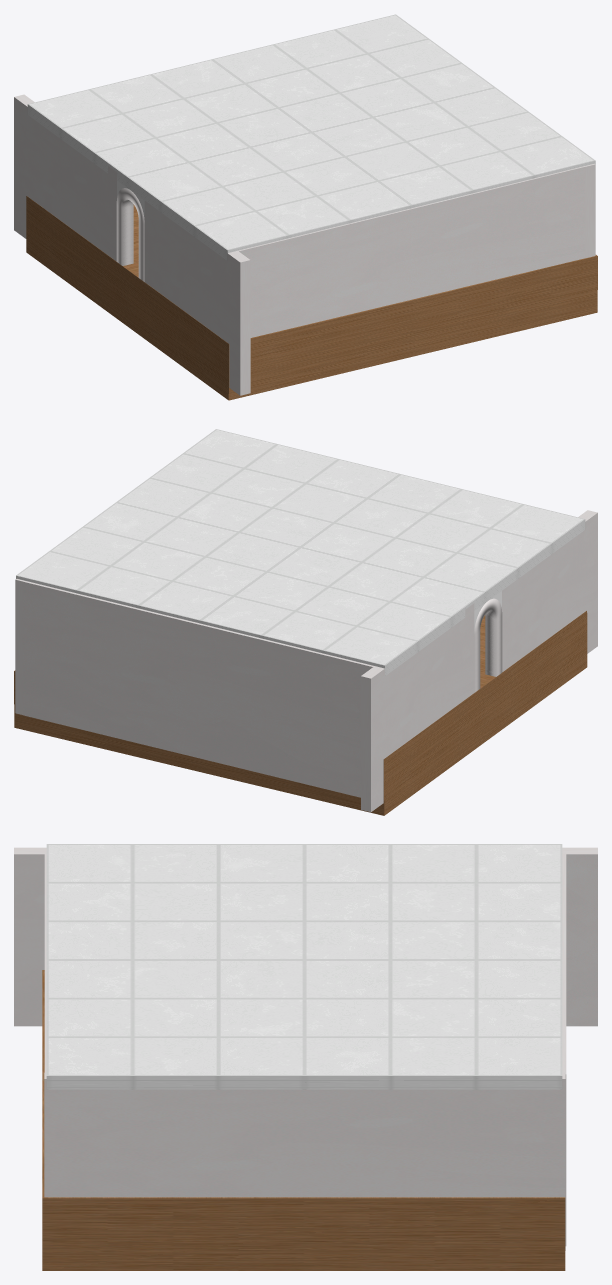
The model's file is home.gltf.
3 views of the same model, one above another, from view 1: azimuth 30°, elevation 25°; view 2: azimuth 150°, elevation 25°; view 3: azimuth 270°, elevation 25° (orthographic). The views are drawn at different scales.
Parts seen in each view (by area): view 1: Ceiling2, Floor2, Vall2, Vall4, Vall32, CSGPolygon3D2, Vall12, CSGBakedMeshInstance3D; view 2: Ceiling2, Vall23, Floor2, Vall32, Vall4, CSGPolygon3D2, Vall12; view 3: Ceiling2, Vall12, Floor2, Vall32, Vall4, Vall23, Vall2.
Boxes of the visible parts, x1=… form: Ceiling2: x1=27, y1=14, x2=595, y2=260; Floor2: x1=26, y1=196, x2=597, y2=400; Vall2: x1=238, y1=166, x2=585, y2=337; Vall4: x1=144, y1=201, x2=250, y2=395; Vall32: x1=14, y1=94, x2=116, y2=261; CSGPolygon3D2: x1=116, y1=188, x2=144, y2=281; Vall12: x1=584, y1=163, x2=595, y2=258; CSGBakedMeshInstance3D: x1=123, y1=200, x2=133, y2=264; Ceiling2: x1=16, y1=429, x2=585, y2=675; Vall23: x1=22, y1=581, x2=374, y2=797; Floor2: x1=14, y1=611, x2=587, y2=815; Vall32: x1=361, y1=603, x2=474, y2=812; Vall4: x1=502, y1=510, x2=597, y2=671; CSGPolygon3D2: x1=474, y1=598, x2=502, y2=692; Vall12: x1=15, y1=579, x2=25, y2=714; Ceiling2: x1=46, y1=844, x2=562, y2=1089; Vall12: x1=44, y1=1072, x2=565, y2=1250; Floor2: x1=42, y1=970, x2=565, y2=1270; Vall32: x1=562, y1=847, x2=597, y2=1026; Vall4: x1=14, y1=847, x2=46, y2=1026; Vall23: x1=562, y1=854, x2=566, y2=1245; Vall2: x1=44, y1=854, x2=46, y2=1072.
Bounding box in the file's own units: 35.98 × 14.06 × 38.19.
9 materials, 3 textured.
